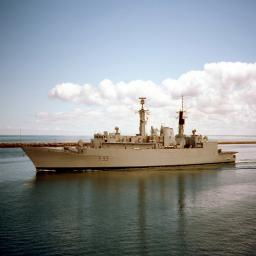Fragata: (20, 97, 238, 177)
